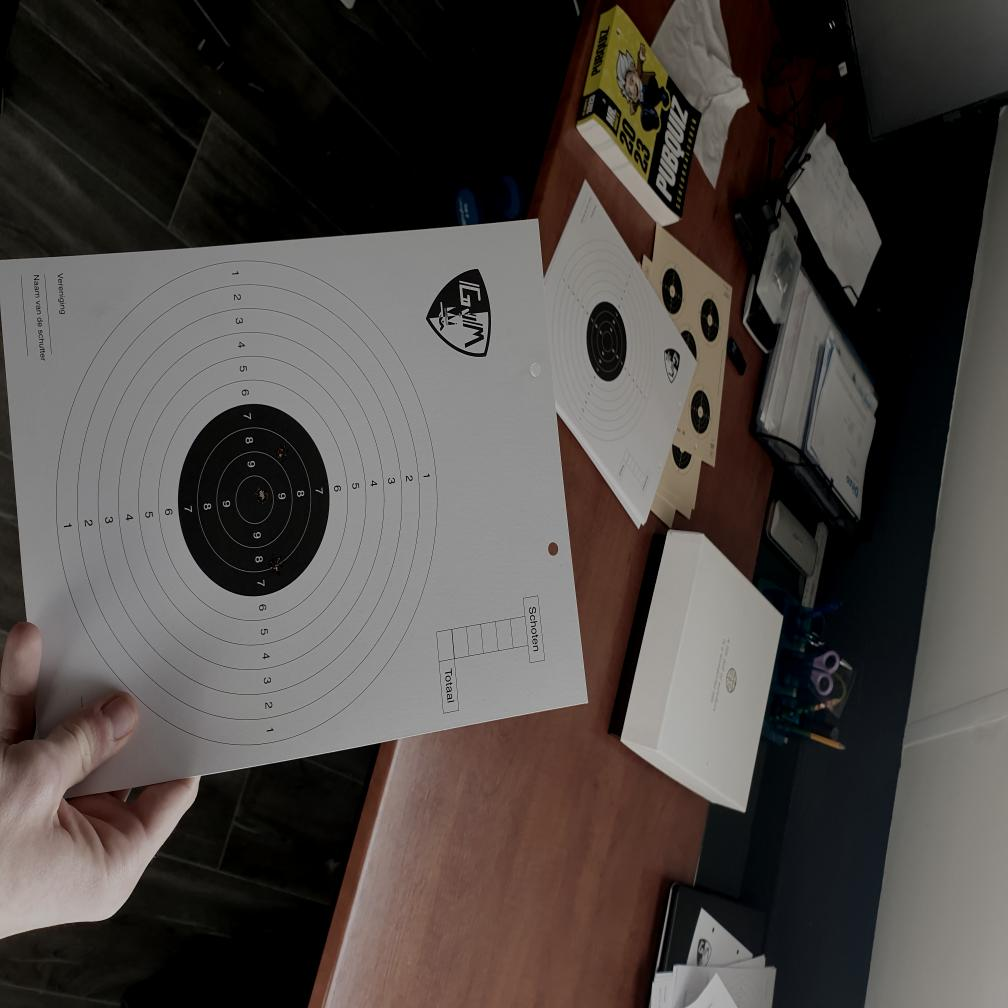10: (256, 488, 268, 504)
8: (269, 553, 284, 576), (275, 444, 288, 463)
Target: (54, 260, 438, 750)
black_contour: (178, 404, 330, 599)
